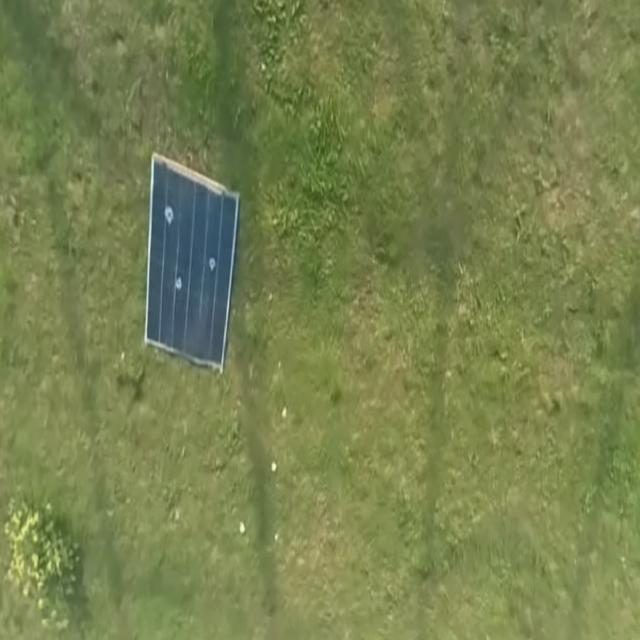Bird-drop: (161, 196, 178, 230), (171, 268, 185, 296), (207, 249, 218, 276)
